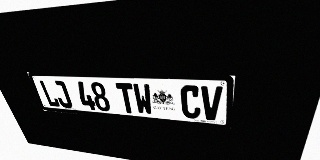4: (75, 81, 97, 110)
8: (89, 82, 111, 112)
C: (180, 85, 200, 119)
J: (51, 81, 73, 108)
L: (38, 80, 61, 107)
T: (115, 83, 137, 114)
V: (201, 86, 223, 121)
W: (132, 83, 154, 115)
